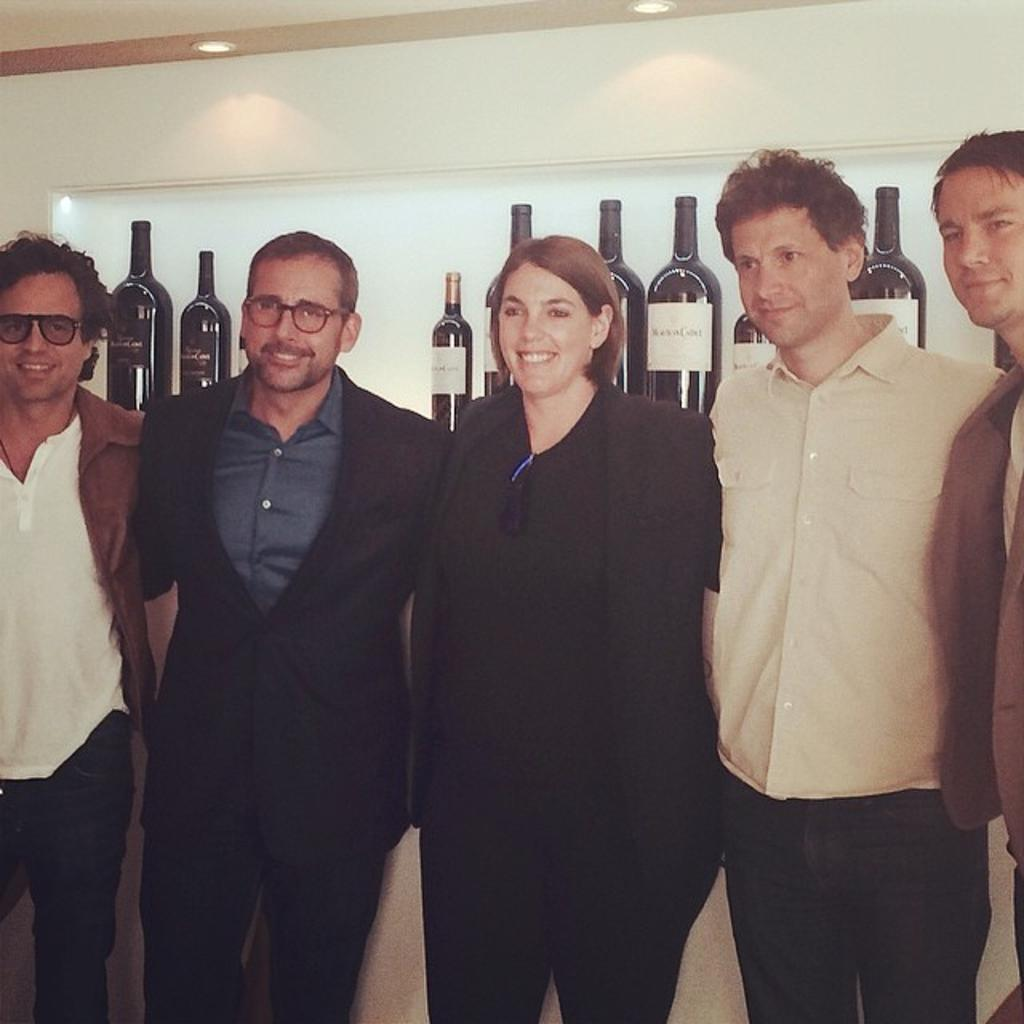face: (738, 206, 834, 340), (940, 170, 1022, 322), (496, 258, 582, 392), (252, 256, 332, 386), (6, 274, 76, 396)
